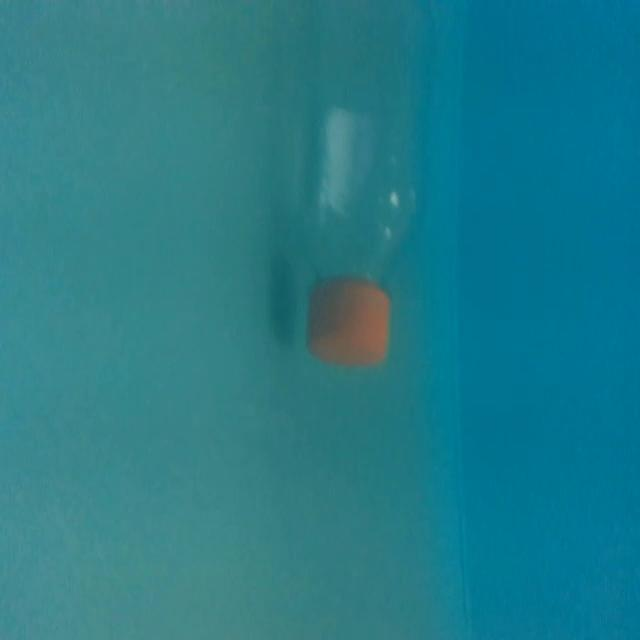plastic bottle: (286, 2, 443, 369)
